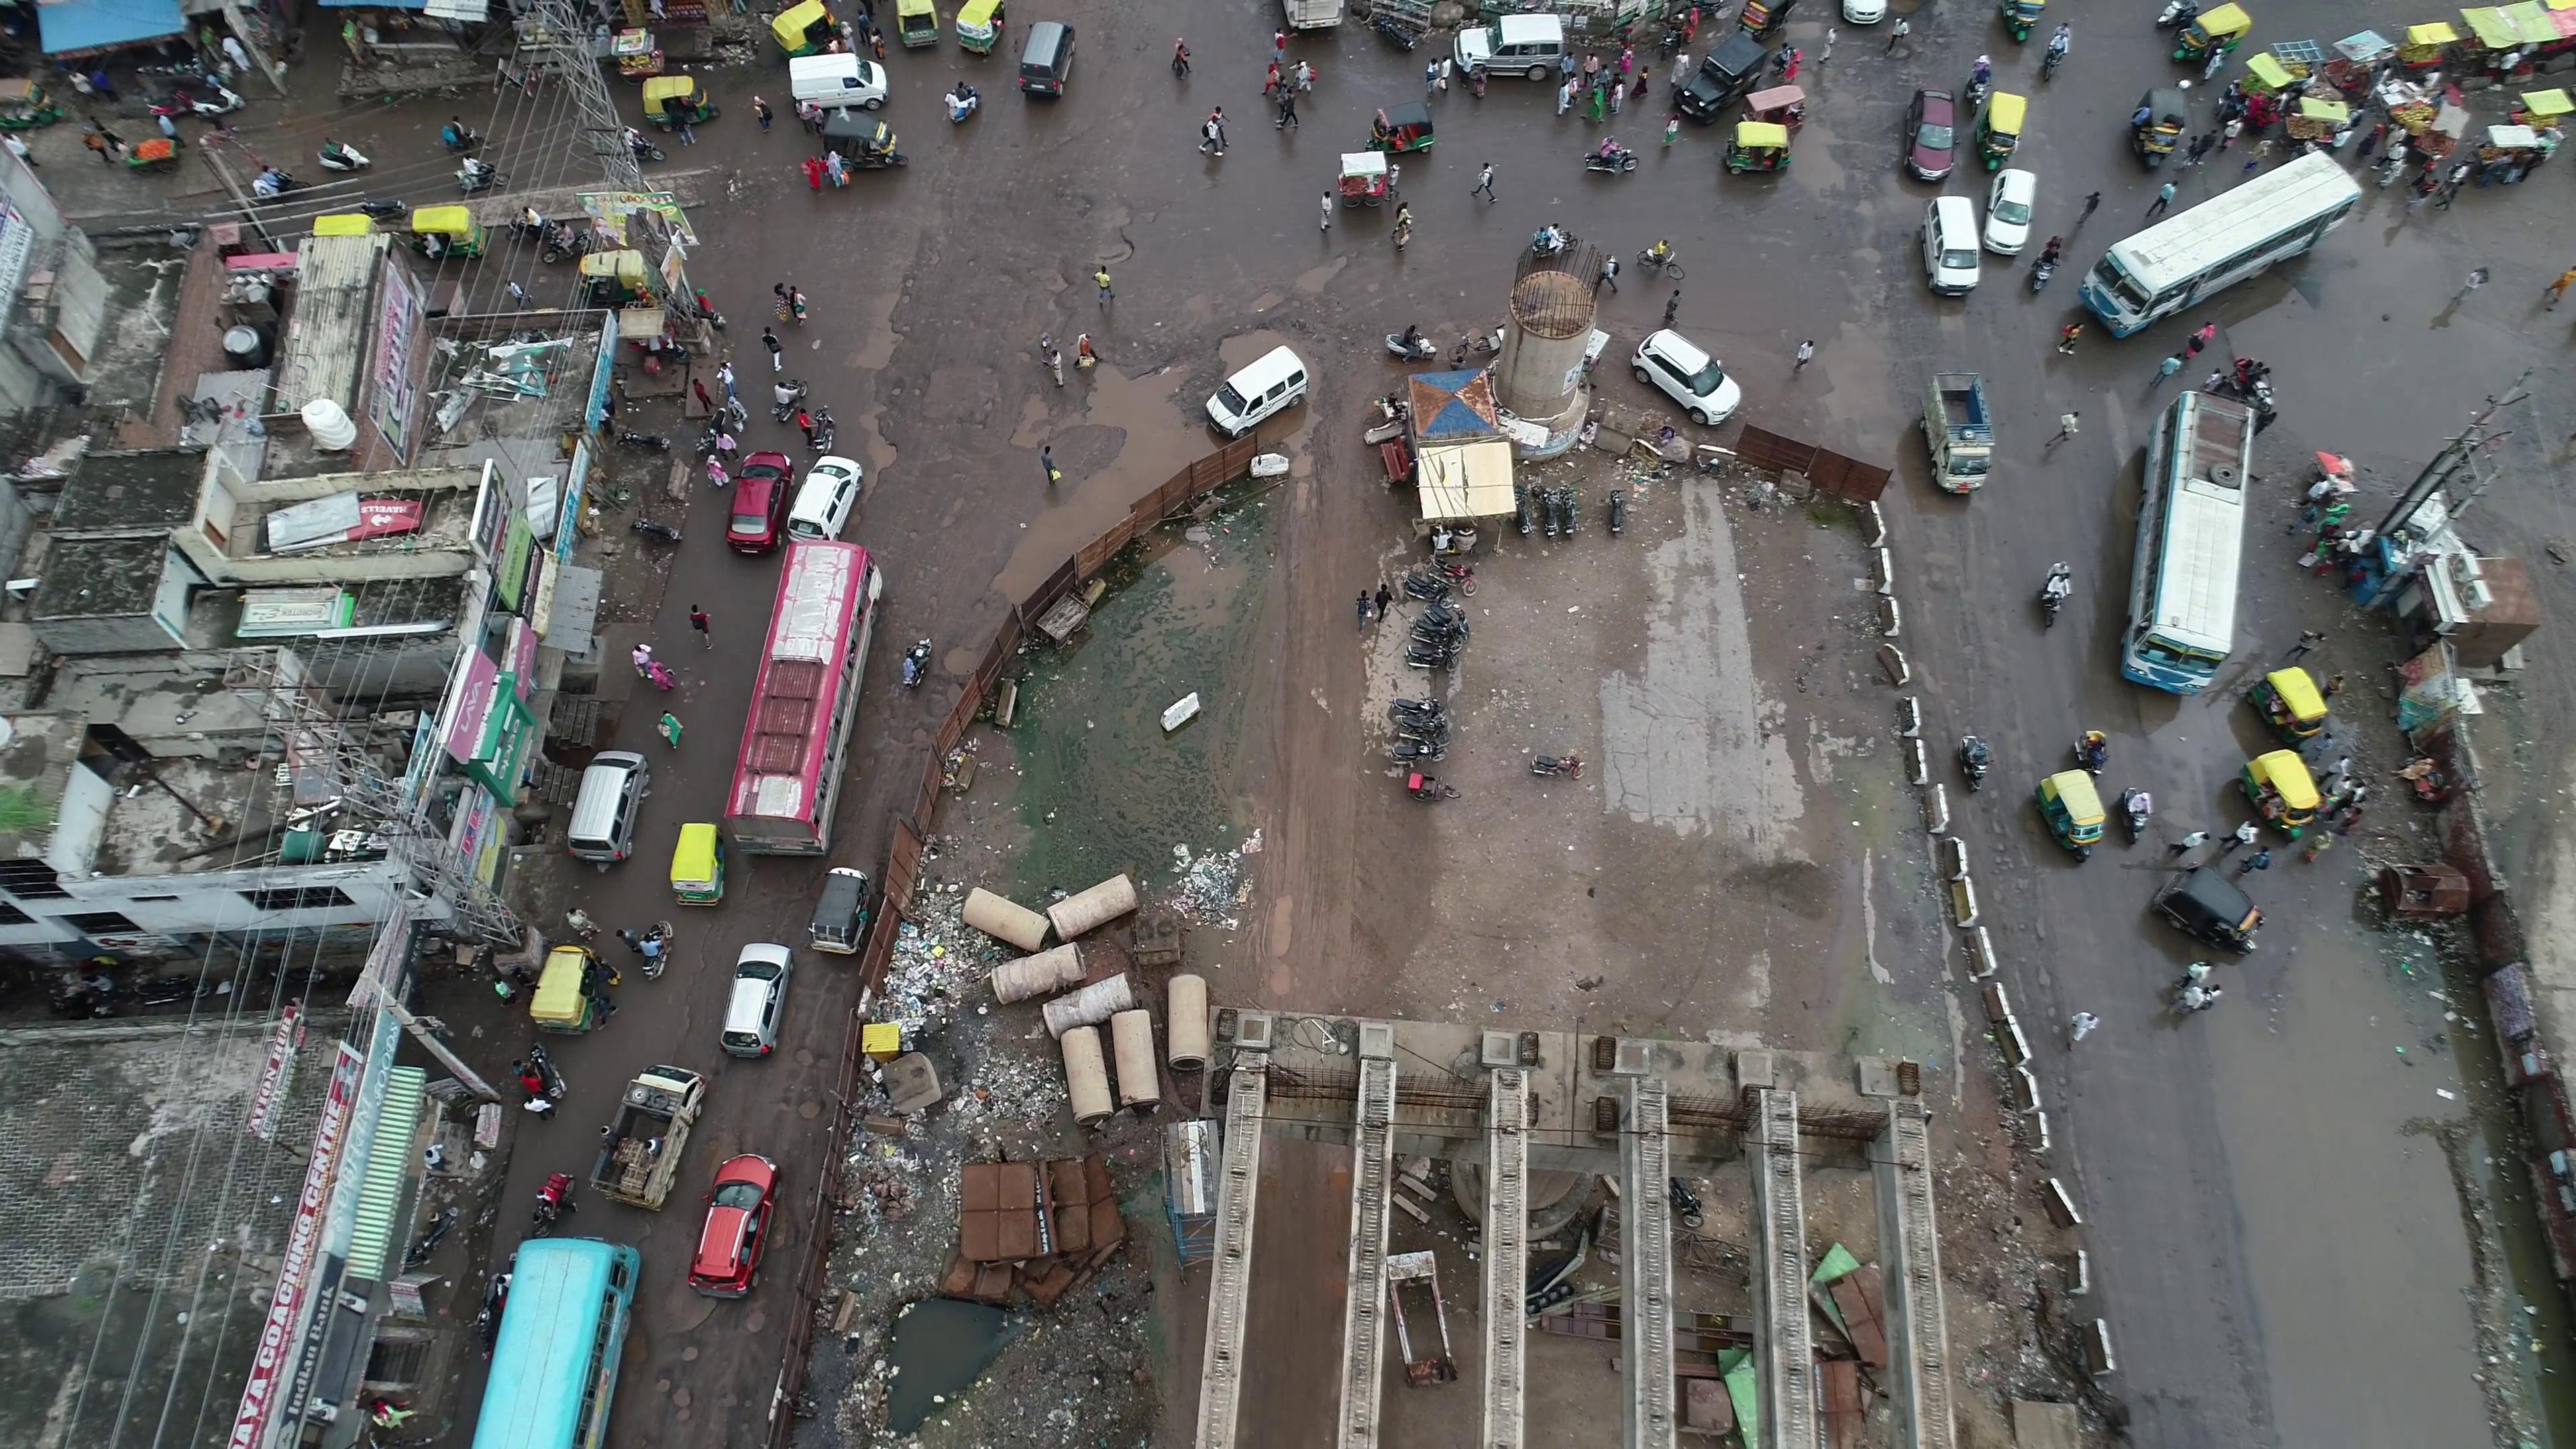Potholes: (890, 350, 1012, 421), (895, 518, 943, 612), (885, 262, 927, 320)
